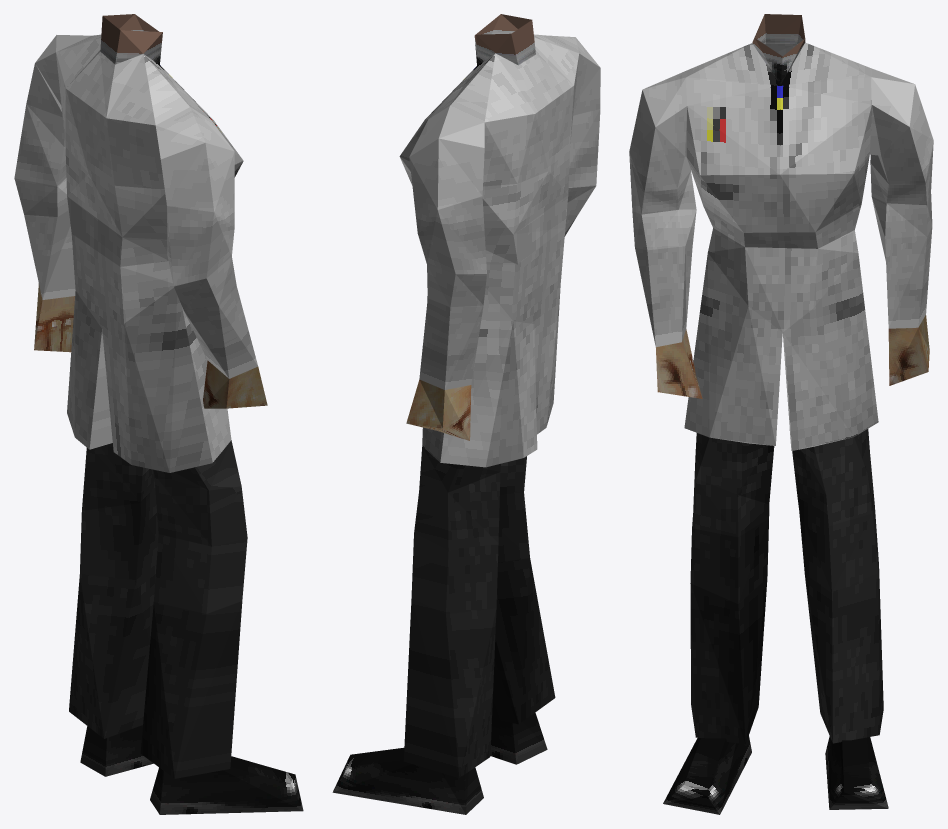
File: primary_054.glb
3 renders of one model, left to right at view 1: azimuth 30°, elevation 25°; view 2: azimuth 150°, elevation 25°; view 3: azimuth 270°, elevation 25°, orthographic. The views are drawn at different scales.
Parts seen in each view (by area): view 1: Object; view 2: Object; view 3: Object.
Boxes of the visible parts, left/top/right/bottom form: Object: left=14, top=14, right=303, bottom=814; Object: left=332, top=14, right=600, bottom=814; Object: left=629, top=14, right=933, bottom=814.
Size of the model in its own units: 0.4308 by 1.83 by 0.6874.
78 materials, 78 textured.
